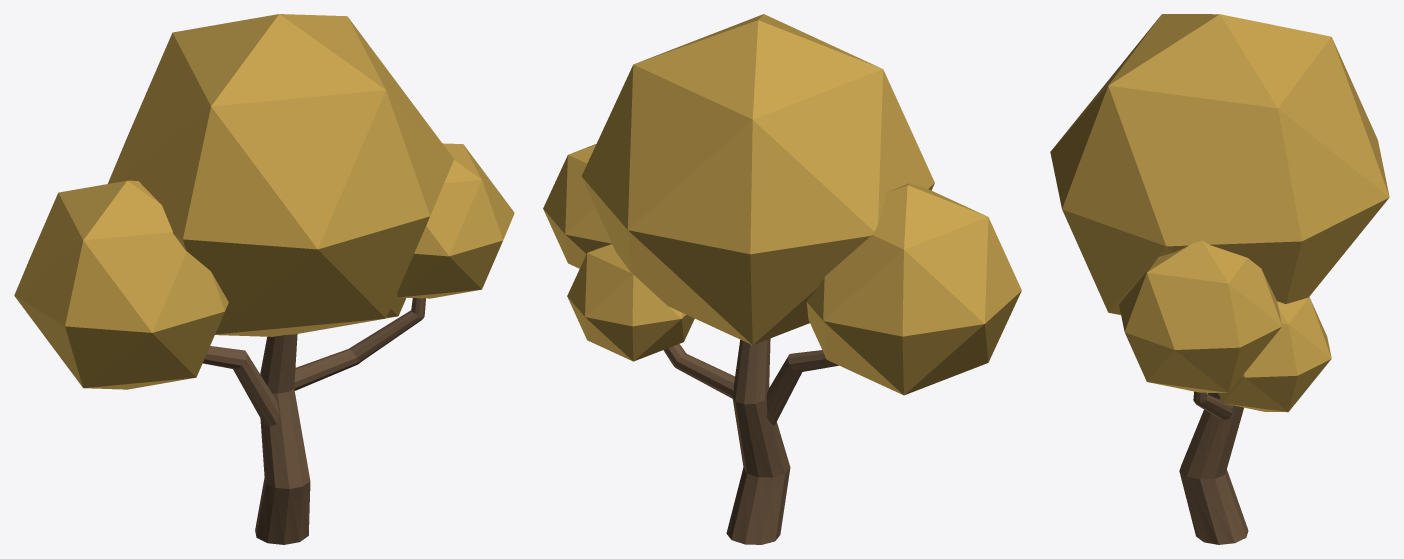
The model's file is tree_yellow_1.glb.
The picture shows the model from 3 angles, left to right: view 1: azimuth 30°, elevation 25°; view 2: azimuth 150°, elevation 25°; view 3: azimuth 270°, elevation 25°; orthographic projection.
Parts seen in each view (by area): view 1: Tree Yellow 2; view 2: Tree Yellow 2; view 3: Tree Yellow 2.
Part boxes in pixels (bbox=[...]): Tree Yellow 2: bbox=[14, 14, 514, 544]; Tree Yellow 2: bbox=[543, 14, 1021, 544]; Tree Yellow 2: bbox=[1050, 14, 1389, 544].
Size of the model in its own units: 0.2867 by 0.3106 by 0.1844.
